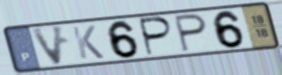6: (211, 8, 249, 49), (106, 19, 143, 60)
K: (70, 24, 107, 61)
P: (172, 12, 210, 54), (139, 16, 176, 58)
V: (28, 24, 67, 68)
